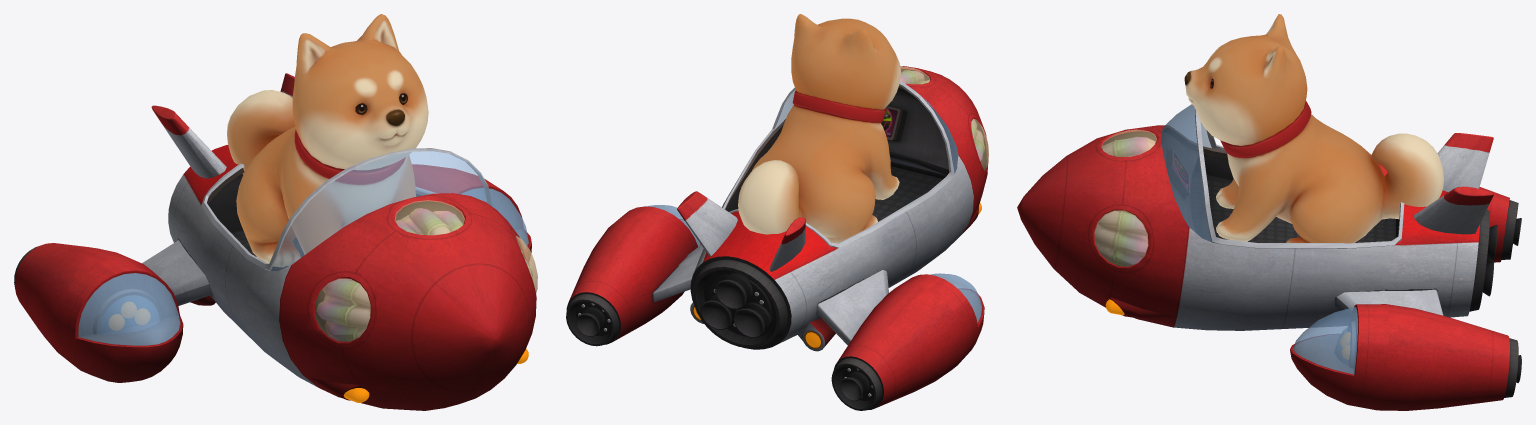
Rendered from DogeShipV3.gltf.
3 views of the same model, side by side, from view 1: azimuth 30°, elevation 25°; view 2: azimuth 150°, elevation 25°; view 3: azimuth 270°, elevation 25° (orthographic). The views are drawn at different scales.
Parts seen in each view (by area): view 1: Object_4.001; view 2: Object_4.001; view 3: Object_4.001.
Part boxes in pixels (x1,y1,x2,y2): Object_4.001: (14, 14, 537, 410); Object_4.001: (566, 14, 988, 410); Object_4.001: (1017, 14, 1521, 410).
Size of the model in its own units: 3.45 by 2.58 by 3.88.
10 materials, 10 textured.
